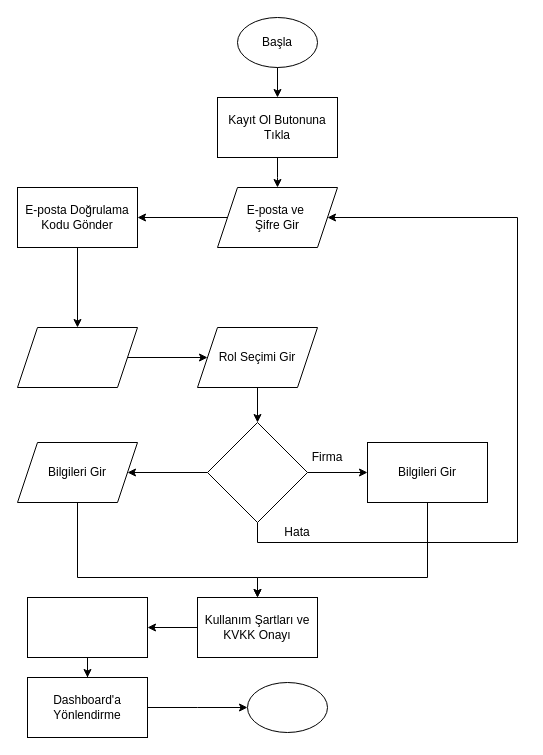
Some shapes in this 543 by 755 pixel diagram are drawn without their labels. Here are the shapes that lost their labels. From the top down, the box of each, then its label:
(16, 326, 138, 388): E-posta Doğrulama Kodu Gir
(206, 422, 308, 522): Rol Seçimi
(26, 596, 148, 658): Kayıt Tamamlandı
(246, 682, 328, 732): Bitir
